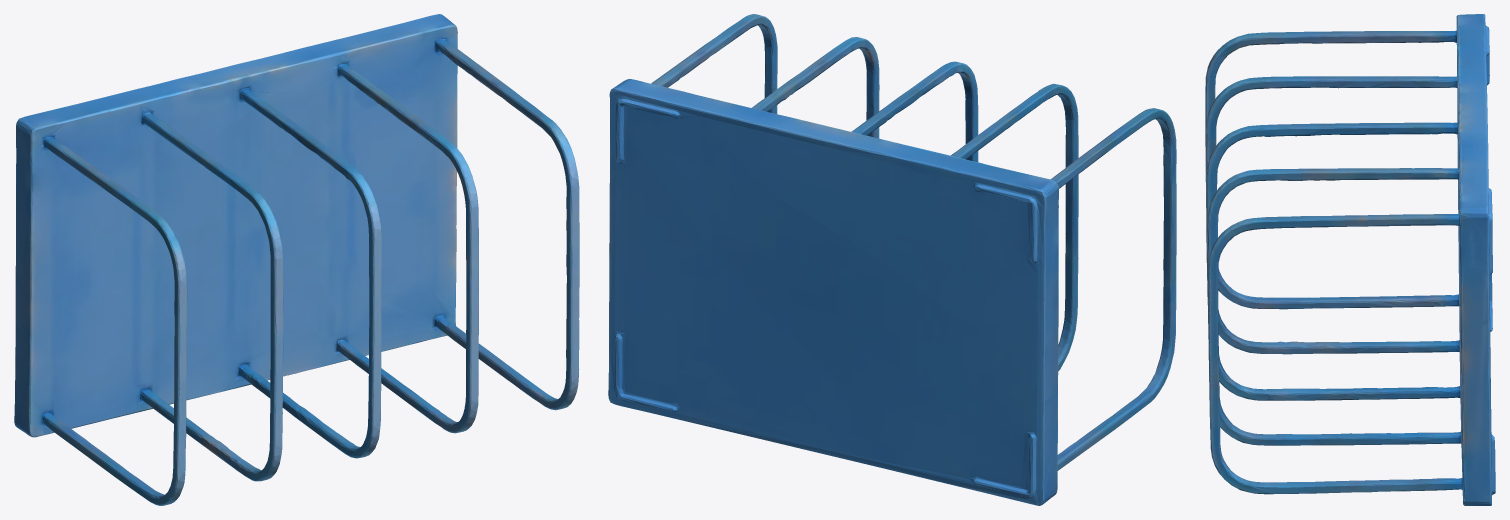
The model's file is sorter.glb.
3 views of the same model, side by side, from view 1: azimuth 30°, elevation 25°; view 2: azimuth 150°, elevation 25°; view 3: azimuth 270°, elevation 25° (orthographic). The views are drawn at different scales.
Visible parts, largest first — view 1: geometry_0; view 2: geometry_0; view 3: geometry_0.
Part boxes in pixels (x1,y1,x2,y2): geometry_0: (14,14,579,505); geometry_0: (608,14,1176,505); geometry_0: (1205,14,1495,505).
Bounding box in the file's own units: 1 × 0.6939 × 0.6135.
1 material, 1 textured.
